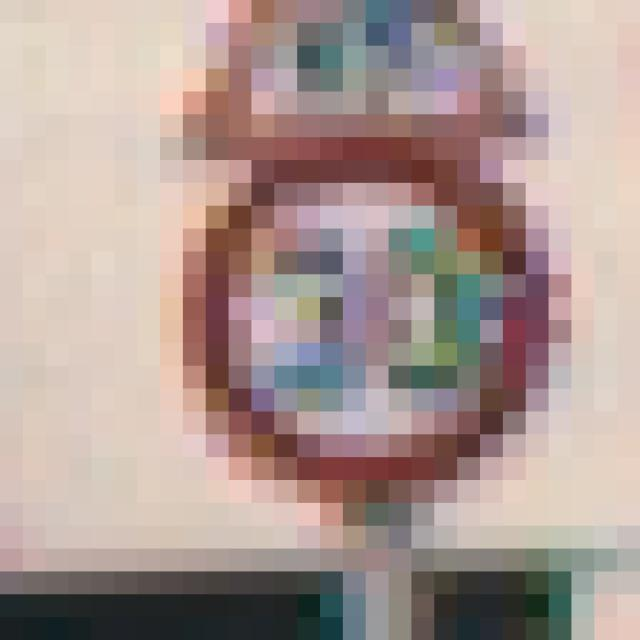Speed Limit -30-: (126, 103, 514, 491)
